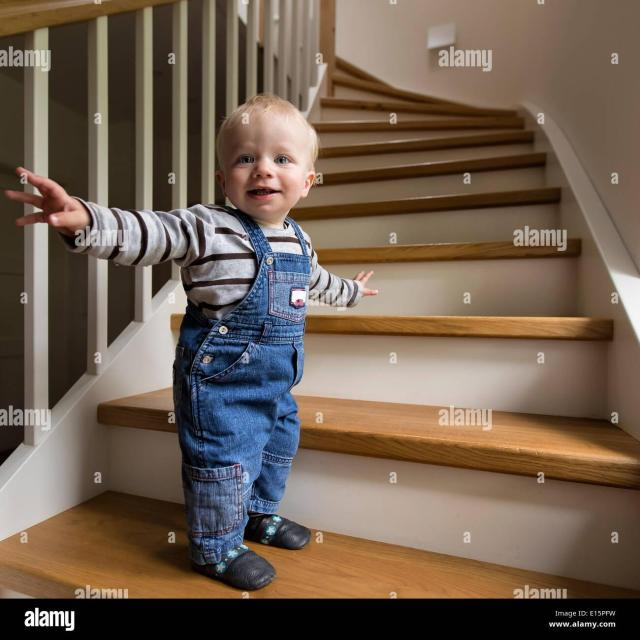child: (5, 75, 382, 590)
